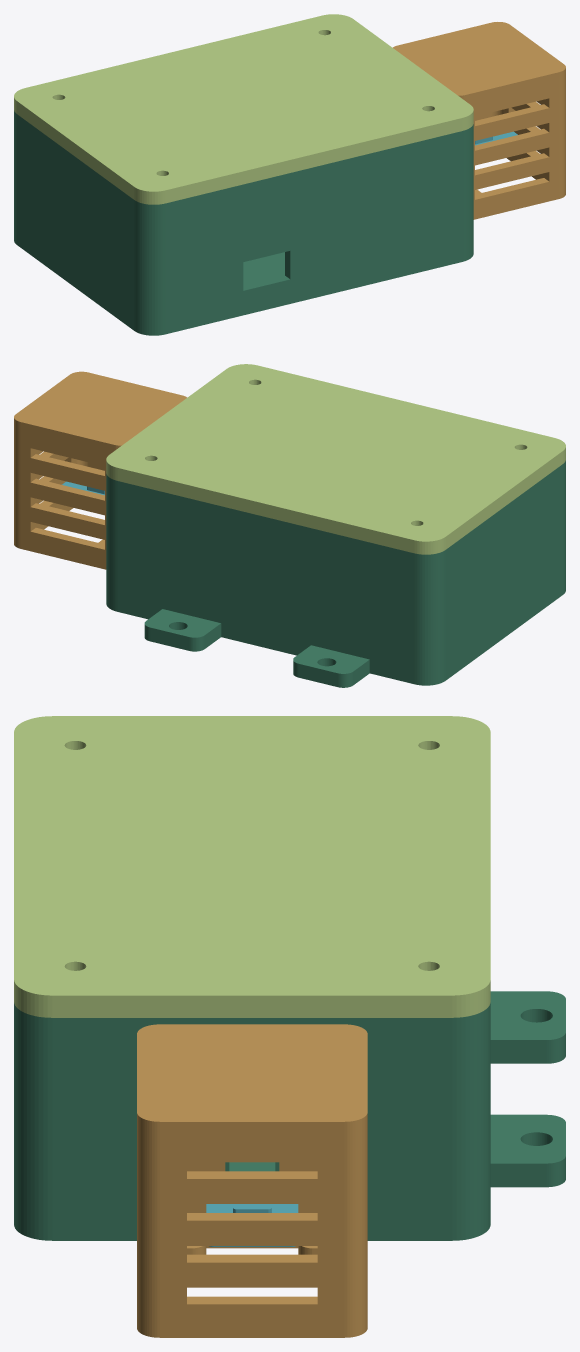
The model's file is KokoShield_Field_Node.glb.
3 renders of one model, top to bottom at view 1: azimuth 30°, elevation 25°; view 2: azimuth 150°, elevation 25°; view 3: azimuth 270°, elevation 25°, orthographic. The views are drawn at different scales.
Visible parts, largest first — view 1: Enclosure Base, Enclosure Lid, Ventilated Sensor Hood; view 2: Enclosure Base, Enclosure Lid, Ventilated Sensor Hood; view 3: Enclosure Lid, Ventilated Sensor Hood, Enclosure Base, Sensor Size Envelope.
Part boxes in pixels (x1=…): Enclosure Base: x1=14, y1=110, x2=473, y2=335; Enclosure Lid: x1=14, y1=14, x2=473, y2=204; Ventilated Sensor Hood: x1=393, y1=22, x2=565, y2=219; Enclosure Base: x1=106, y1=460, x2=565, y2=687; Enclosure Lid: x1=106, y1=364, x2=565, y2=554; Ventilated Sensor Hood: x1=14, y1=371, x2=187, y2=569; Enclosure Lid: x1=14, y1=716, x2=490, y2=1017; Ventilated Sensor Hood: x1=137, y1=1024, x2=367, y2=1337; Enclosure Base: x1=14, y1=991, x2=565, y2=1240; Sensor Size Envelope: x1=206, y1=1204, x2=298, y2=1246.
Size of the model in its own units: 0.118 by 0.0352 by 0.0718.
